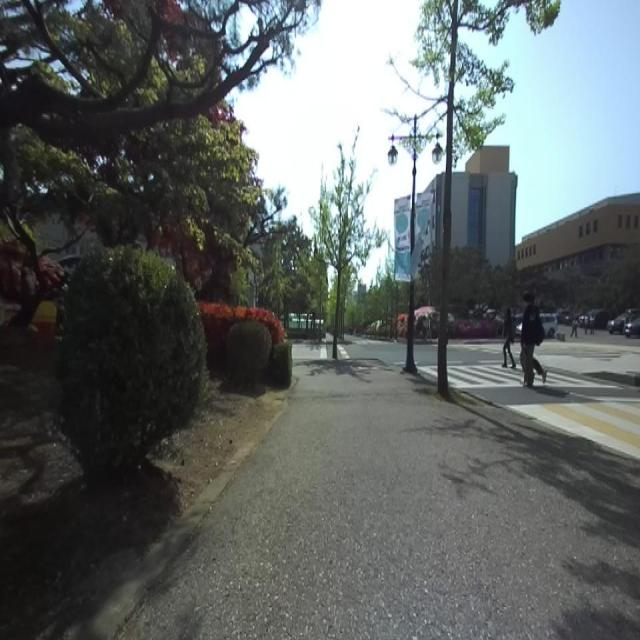sidewalk: (111, 359, 640, 640), (64, 388, 293, 640)
